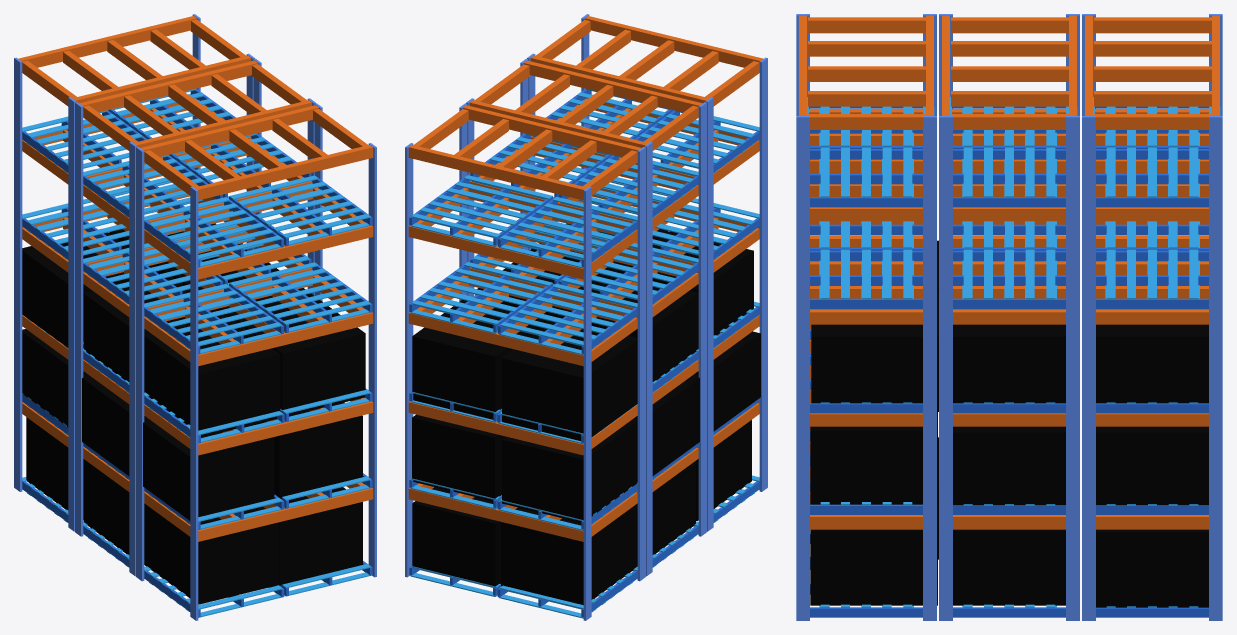
File: bmetsracks.glb
3 renders of one model, left to right at view 1: azimuth 30°, elevation 25°; view 2: azimuth 150°, elevation 25°; view 3: azimuth 270°, elevation 25°, orthographic. The views are drawn at different scales.
Parts seen in each view (by area): view 1: Box5_2, Box4_2, Box2_2, Box6_2, Box3_2, Box1_2, Box5, post_9, post_3, post_1, post_5, Box4_1 (+47 smaller); view 2: Box5, Box4, Box2, Box6, Box1, Box3, post_11, post_9, post_3, post_7, Box4_1, Box4_2 (+48 smaller); view 3: Box6_2, Box6, Box6_1, Box3_1, Box3, Box3_2, Box1, Box1_2, Box1_1, post, post_2, post_4 (+84 smaller).
Boxes of the visible parts, bbox=[...] form: Box5_2: bbox=[144, 314, 280, 437]; Box4_2: bbox=[143, 416, 274, 520]; Box2_2: bbox=[144, 503, 278, 604]; Box6_2: bbox=[228, 293, 365, 415]; Box3_2: bbox=[256, 402, 362, 498]; Box1_2: bbox=[260, 487, 362, 585]; Box5: bbox=[22, 232, 157, 347]; post_9: bbox=[14, 57, 22, 491]; post_3: bbox=[190, 186, 198, 620]; post_1: bbox=[136, 147, 144, 581]; post_5: bbox=[75, 102, 83, 536]; Box4_1: bbox=[82, 373, 129, 475]; Box5: bbox=[502, 321, 637, 440]; Box4: bbox=[502, 418, 637, 522]; Box2: bbox=[501, 503, 637, 604]; Box6: bbox=[412, 299, 549, 419]; Box1: bbox=[412, 487, 519, 586]; Box3: bbox=[412, 414, 505, 500]; post_11: bbox=[637, 147, 645, 581]; post_9: bbox=[583, 186, 591, 620]; post_3: bbox=[759, 57, 767, 491]; post_7: bbox=[698, 102, 706, 536]; Box4_1: bbox=[634, 374, 699, 475]; Box4_2: bbox=[695, 331, 760, 431]; Box6_2: bbox=[811, 289, 938, 411]; Box6: bbox=[1096, 324, 1208, 403]; Box6_1: bbox=[953, 324, 1065, 403]; Box3_1: bbox=[953, 426, 1065, 505]; Box3: bbox=[1096, 426, 1208, 505]; Box3_2: bbox=[810, 412, 937, 505]; Box1: bbox=[1096, 529, 1208, 607]; Box1_2: bbox=[810, 505, 937, 605]; Box1_1: bbox=[953, 529, 1065, 605]; post: bbox=[923, 116, 936, 620]; post_2: bbox=[796, 116, 809, 620]; post_4: bbox=[1066, 116, 1079, 620].
Bounding box in the file's own units: 2.96 × 6.73 × 5.17.
